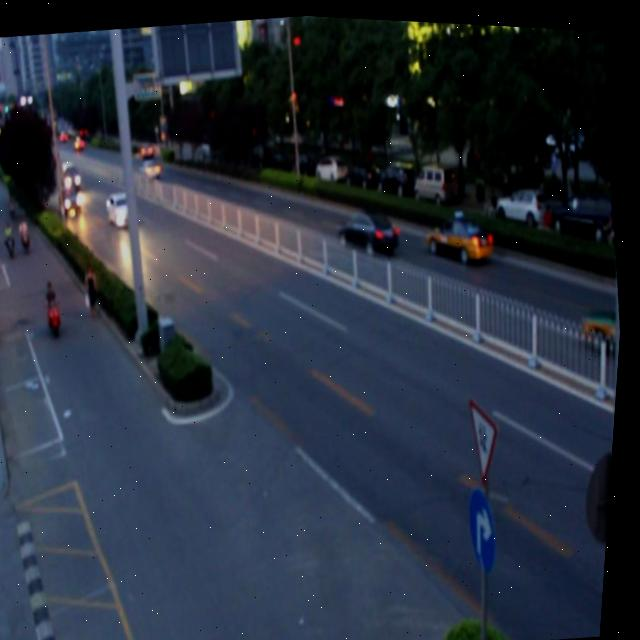car: (426, 205, 496, 262), (574, 286, 626, 354), (335, 200, 403, 251), (106, 189, 137, 226)
